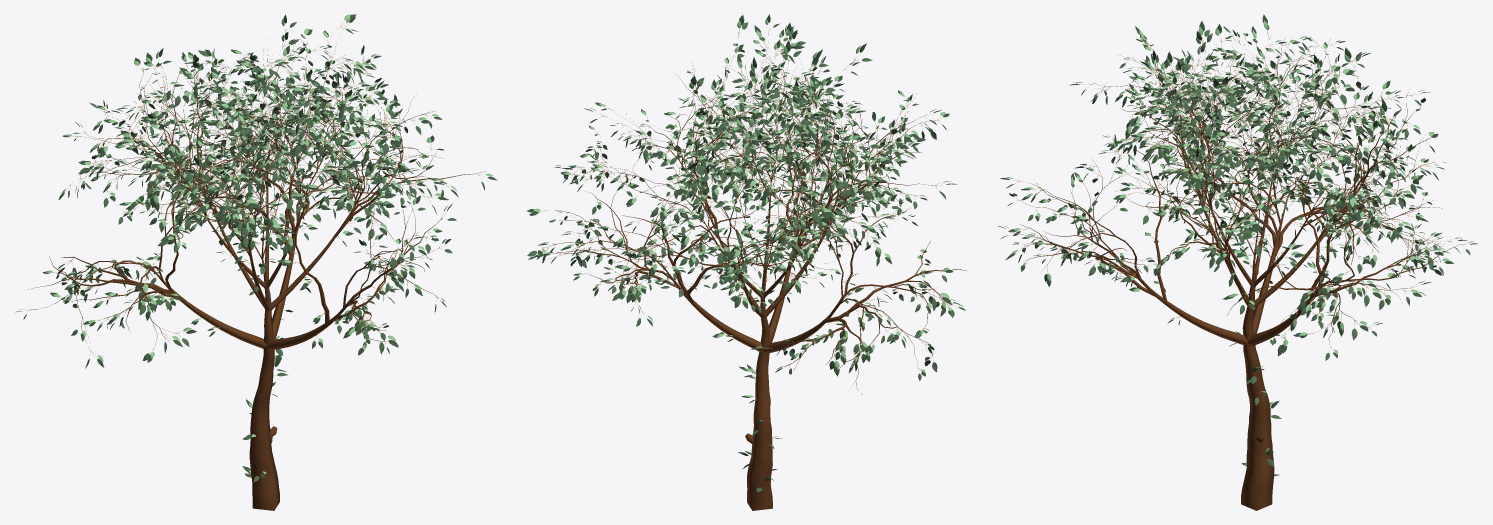
File: Tree39.fbx
3 renders of one model, left to right at view 1: azimuth 30°, elevation 25°; view 2: azimuth 150°, elevation 25°; view 3: azimuth 270°, elevation 25°, orthographic. The views are drawn at different scales.
Parts seen in each view (by area): view 1: Árbol.002; view 2: Árbol.002; view 3: Árbol.002.
Part boxes in pixels (x1,y1,x2,y2): Árbol.002: [27, 49, 484, 510]; Árbol.002: [542, 34, 966, 510]; Árbol.002: [1019, 37, 1457, 510].
Bounding box in the file's own units: 2078 × 2219 × 2053.
